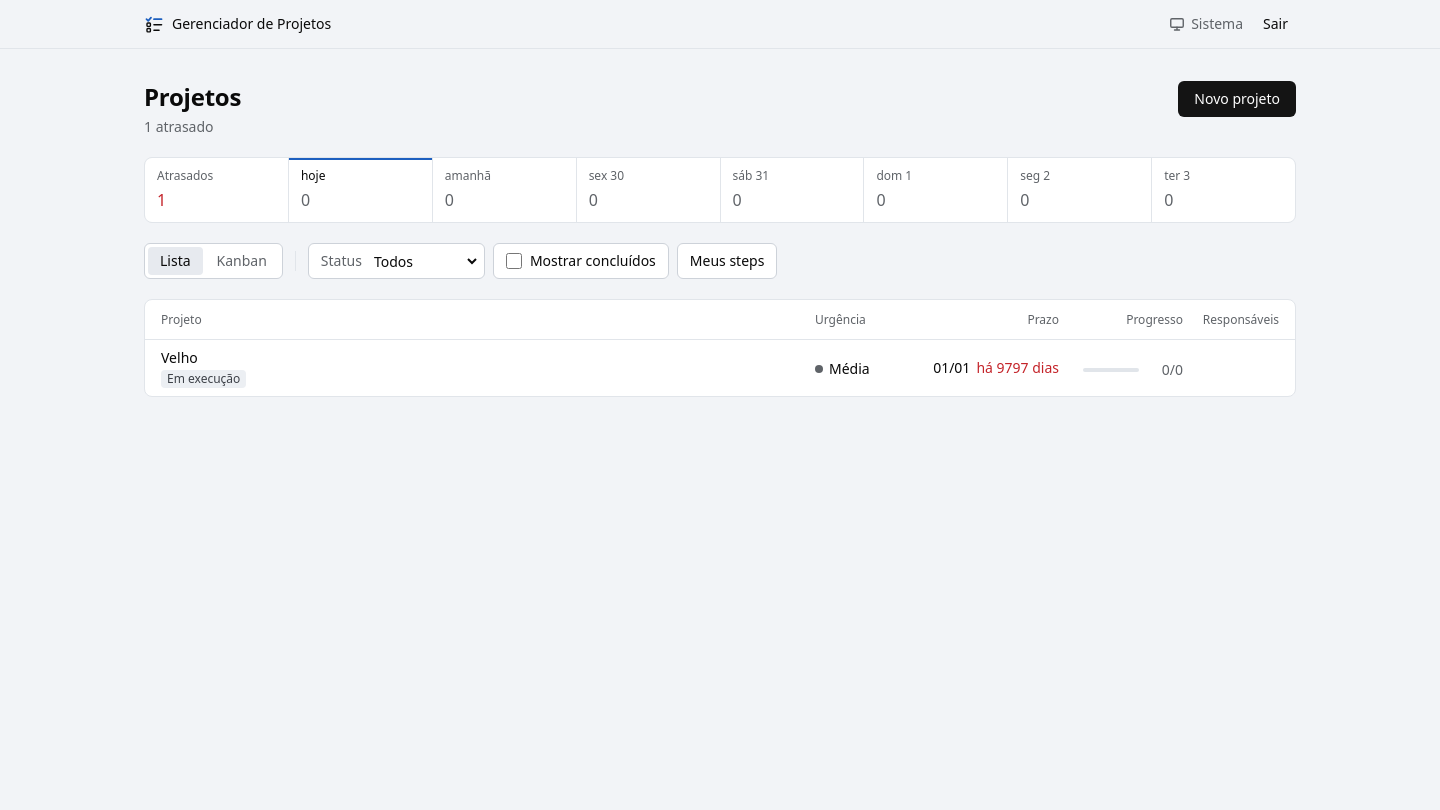
App › faixa de próximos prazos só aparece com projetos e abre o projeto
The width and height of the screenshot is (1440, 810).
Click the button with aria-label "Atrasados: 1 projeto": [216, 190] box [145,158,288,222]
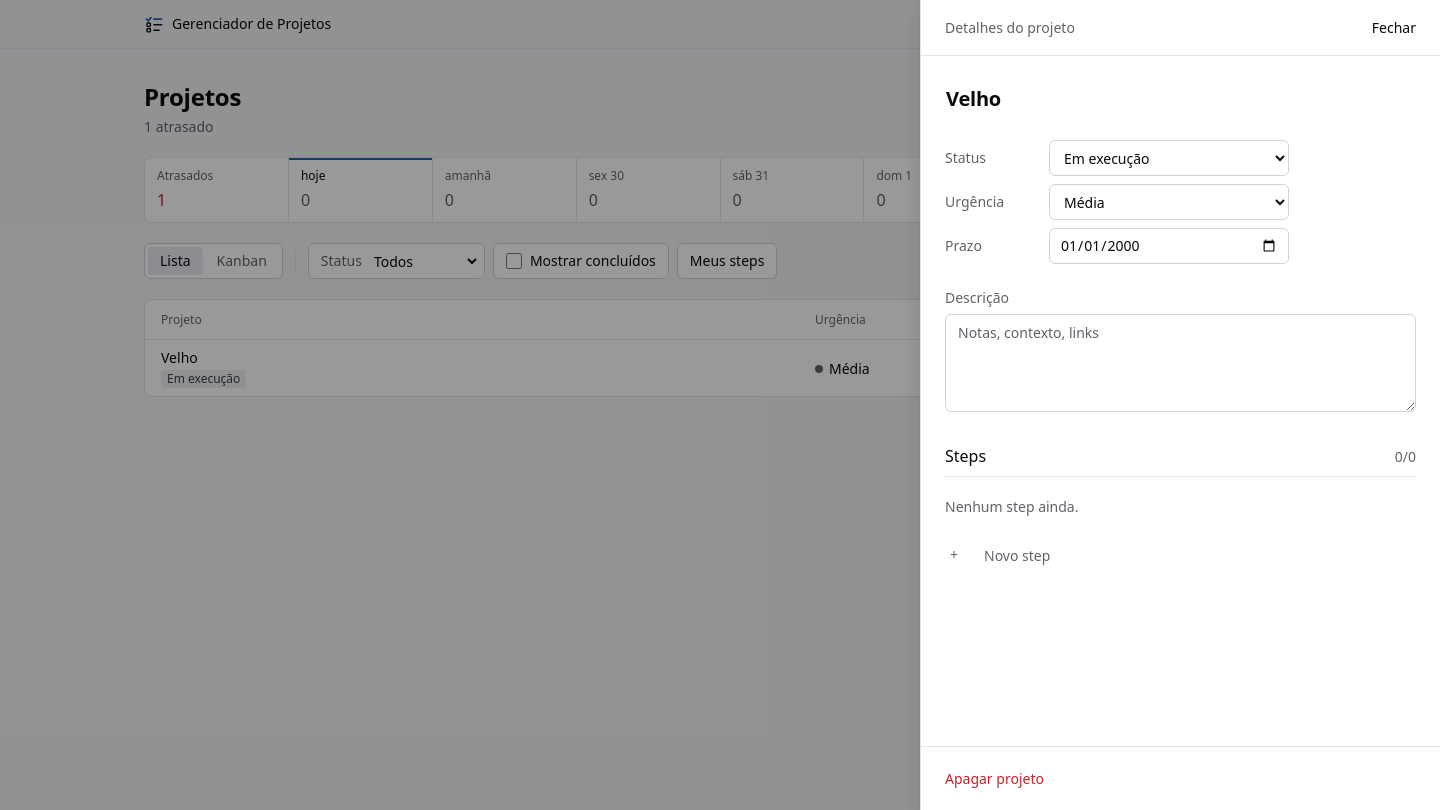
Expected: the dialog is shown, [920,0,1439,809]
